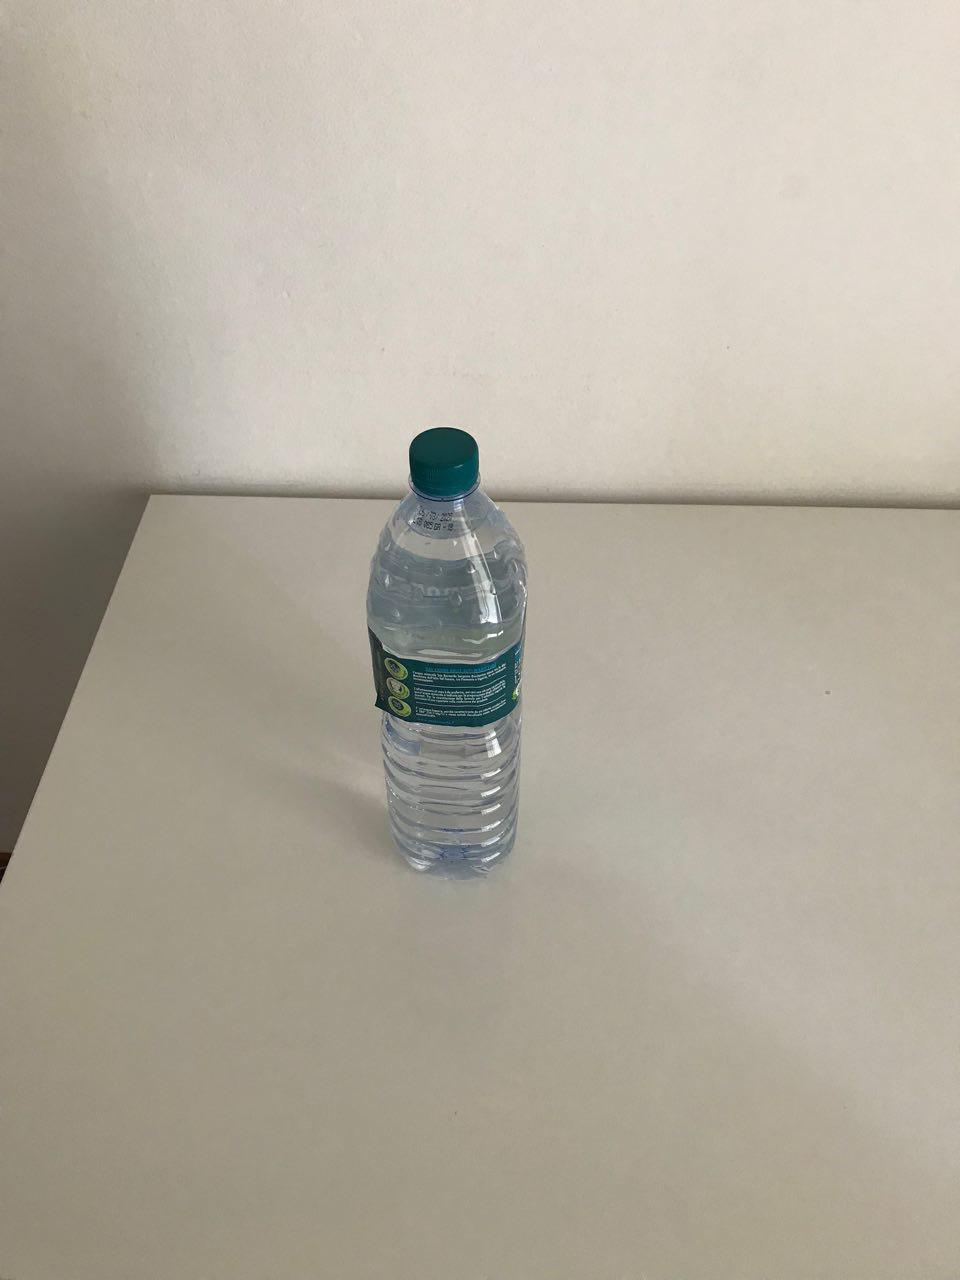san_bernardo: (365, 425, 529, 885)
